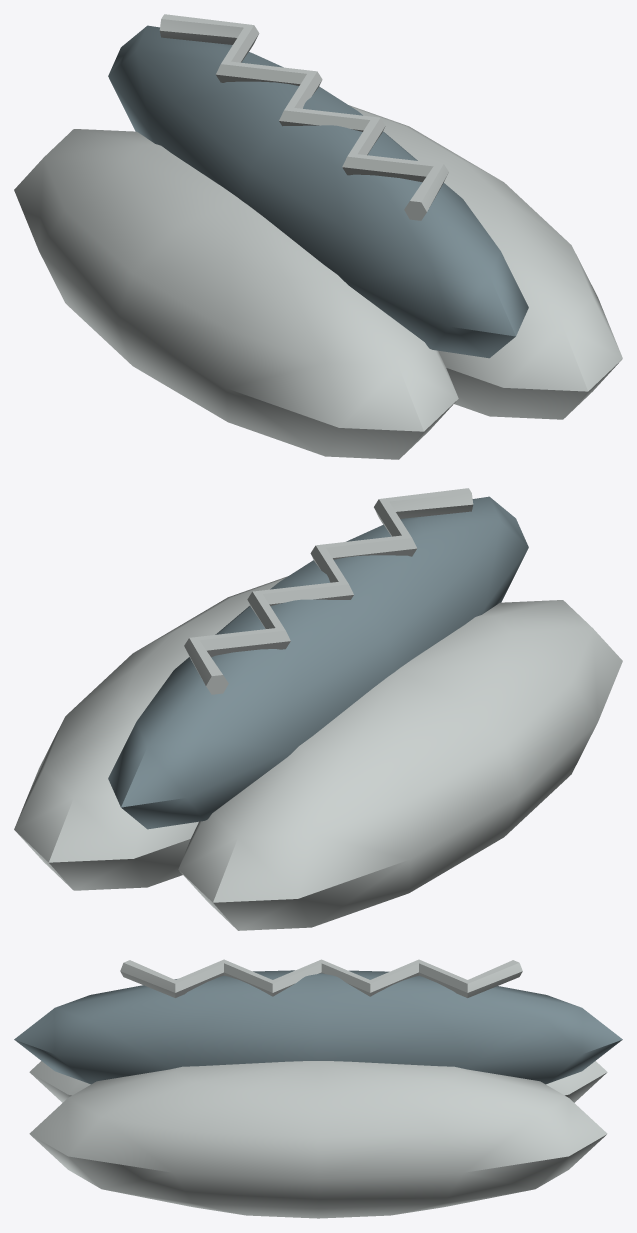
Rendered from hot-dog.glb.
3 views of the same model, one above another, from view 1: azimuth 30°, elevation 25°; view 2: azimuth 150°, elevation 25°; view 3: azimuth 270°, elevation 25° (orthographic). The views are drawn at different scales.
Visible parts, largest first — view 1: split_roll_left, sausage, split_roll_right, mustard_zigzag; view 2: split_roll_left, sausage, split_roll_right, mustard_zigzag; view 3: split_roll_right, sausage, mustard_zigzag, split_roll_left.
Part boxes in pixels (x1=…): split_roll_left: x1=14, y1=129, x2=458, y2=459; sausage: x1=108, y1=25, x2=528, y2=358; split_roll_right: x1=349, y1=105, x2=622, y2=419; mustard_zigzag: x1=159, y1=14, x2=448, y2=220; split_roll_left: x1=178, y1=600, x2=622, y2=930; sausage: x1=108, y1=496, x2=528, y2=829; split_roll_right: x1=14, y1=576, x2=287, y2=890; mustard_zigzag: x1=184, y1=488, x2=473, y2=694; split_roll_right: x1=29, y1=1061, x2=607, y2=1218; sausage: x1=14, y1=970, x2=622, y2=1084; mustard_zigzag: x1=120, y1=959, x2=522, y2=997; split_roll_left: x1=29, y1=1061, x2=607, y2=1102.
Bounding box in the file's own units: 0.118 × 0.0736 × 0.2.
